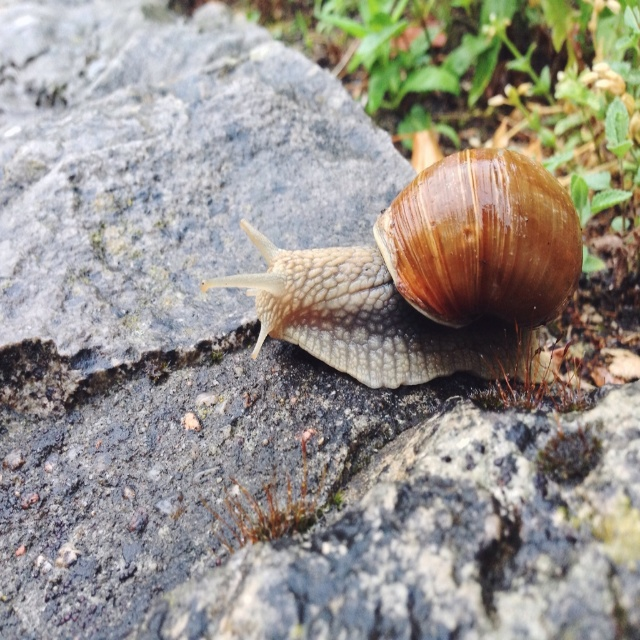Snail: (200, 147, 584, 390)
